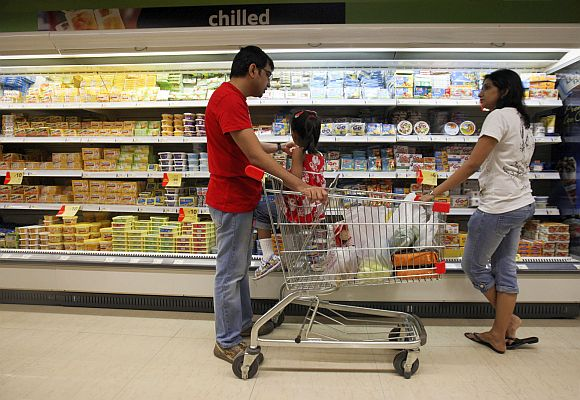Age_30_40: (233, 43, 274, 97), (477, 69, 517, 109)
Age_below20: (292, 111, 322, 150)
E_Indian: (233, 43, 274, 97), (477, 69, 517, 109), (292, 111, 322, 150)
Emotion_Neutral: (233, 43, 274, 97), (292, 111, 322, 150)
Emotion_Sad: (477, 69, 517, 109)
G_ Female: (477, 69, 517, 109), (292, 111, 322, 150)
G_Male: (233, 43, 274, 97)
